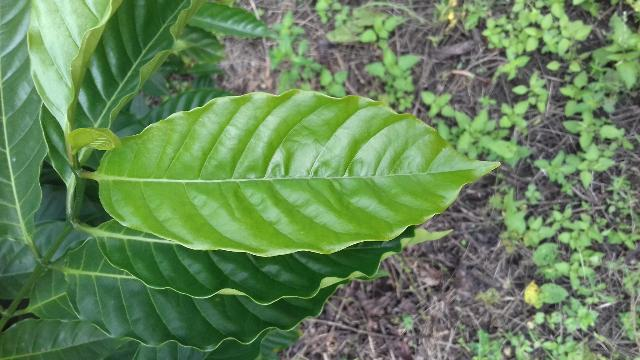healthy: (77, 90, 502, 257)
